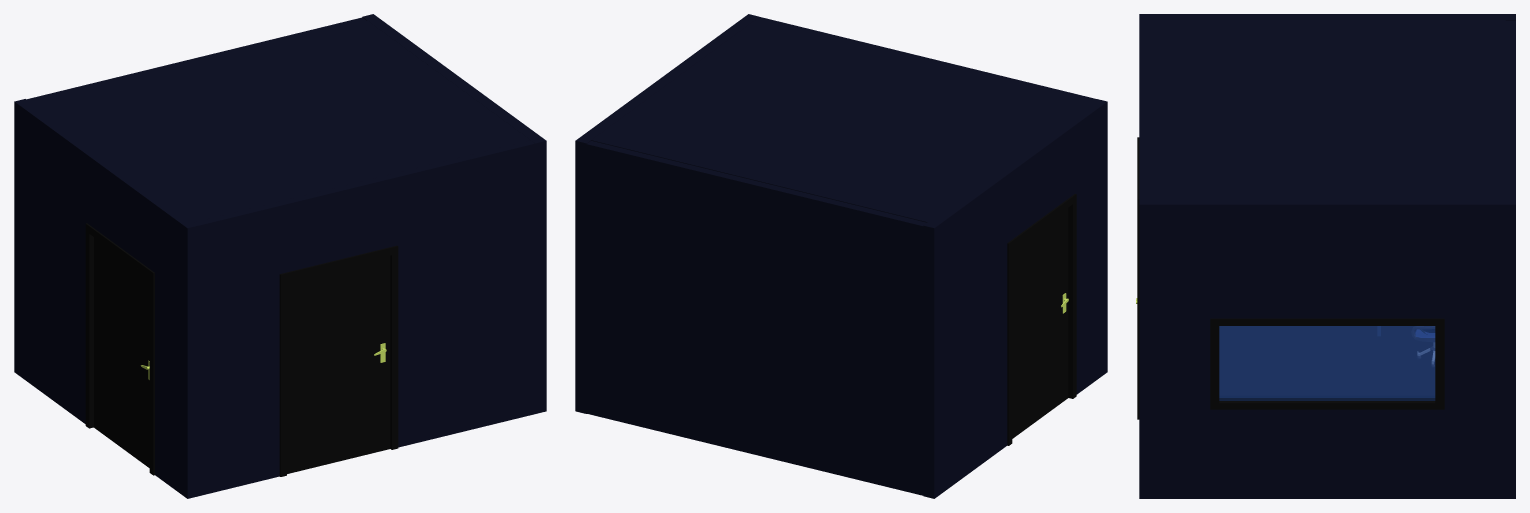
File: Alex Room (ADJUSTED).FBX
3 views of the same model, side by side, from view 1: azimuth 30°, elevation 25°; view 2: azimuth 150°, elevation 25°; view 3: azimuth 270°, elevation 25° (orthographic). The views are drawn at different scales.
Parts seen in each view (by area): view 1: Room, Ceiling, Door 1, Door 003; view 2: Room, Ceiling, Door 003; view 3: Room, Ceiling, Chair.
Part boxes in pixels (x1,y1,x2,y2): Room: (14,14,546,498); Ceiling: (31,20,530,222); Door 1: (287,255,390,473); Door 003: (94,237,149,467); Room: (575,14,1107,498); Ceiling: (591,20,1090,222); Door 003: (1012,208,1068,438); Room: (1137,14,1515,498); Ceiling: (1149,20,1505,198); Chair: (1411,326,1434,367).
Size of the model in its own units: 839 by 600 by 701.
